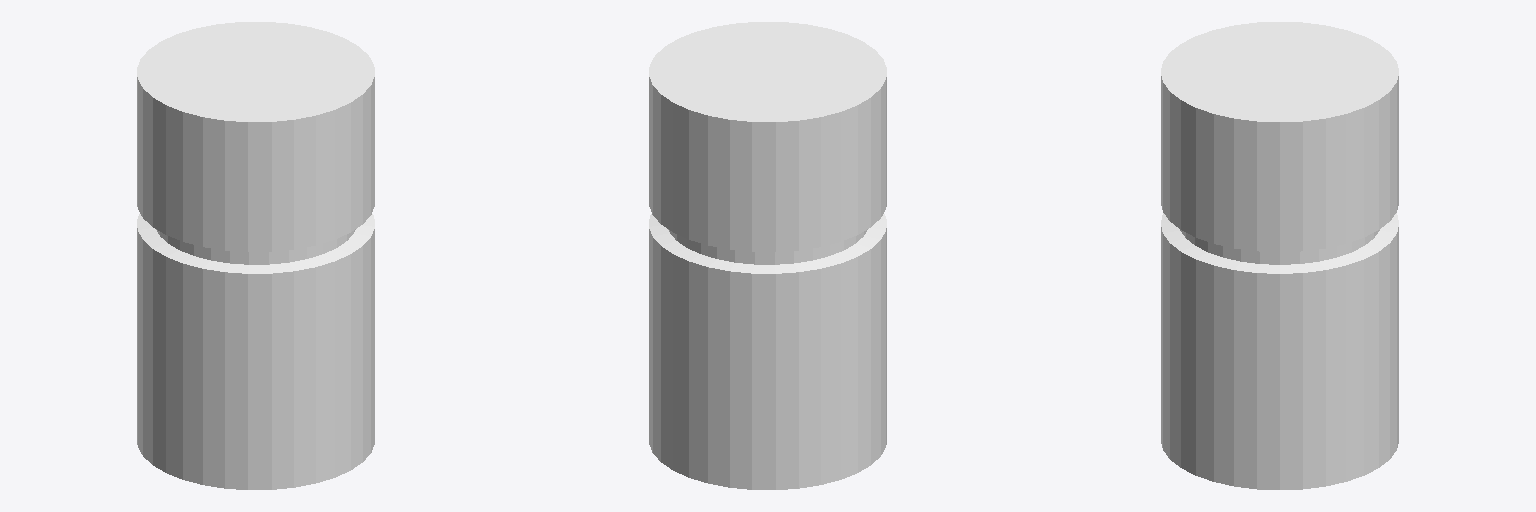
The model's file is plunger.obj.
3 views of the same model, side by side, from view 1: azimuth 30°, elevation 25°; view 2: azimuth 150°, elevation 25°; view 3: azimuth 270°, elevation 25° (orthographic).
Visible parts, largest first — view 1: Cylinder_Cylinder.001; view 2: Cylinder_Cylinder.001; view 3: Cylinder_Cylinder.001.
Boxes of the visible parts, box(x1,y1,x2,y2) form: Cylinder_Cylinder.001: box(137, 22, 374, 489); Cylinder_Cylinder.001: box(649, 22, 886, 489); Cylinder_Cylinder.001: box(1161, 22, 1398, 489).
Size of the model in its own units: 2 by 3.4 by 2.